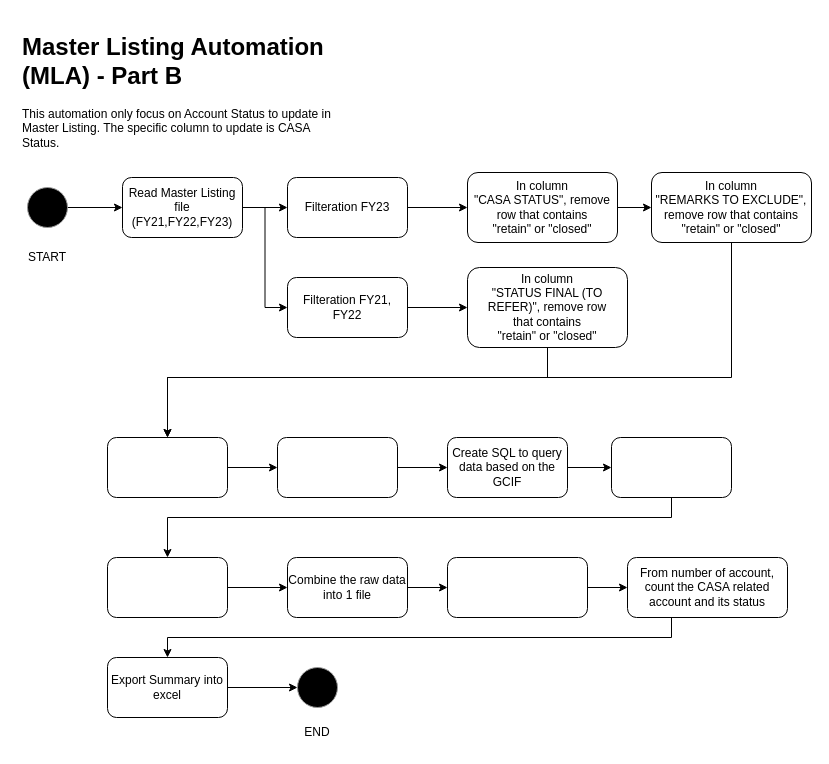
Image size: 829x764. Some labels were removed from this diagram. Each missing label, with the centre of its shape:
Consolidate GCIF in 1 DataFrame: the point at 167,467
Drop duplication in GCIF: the point at 337,467
Extract data using Teradata: the point at 671,467
Extract data using Teradata as Raw data: the point at 167,587
For each GCIF in raw data, count number of account: the point at 517,587
